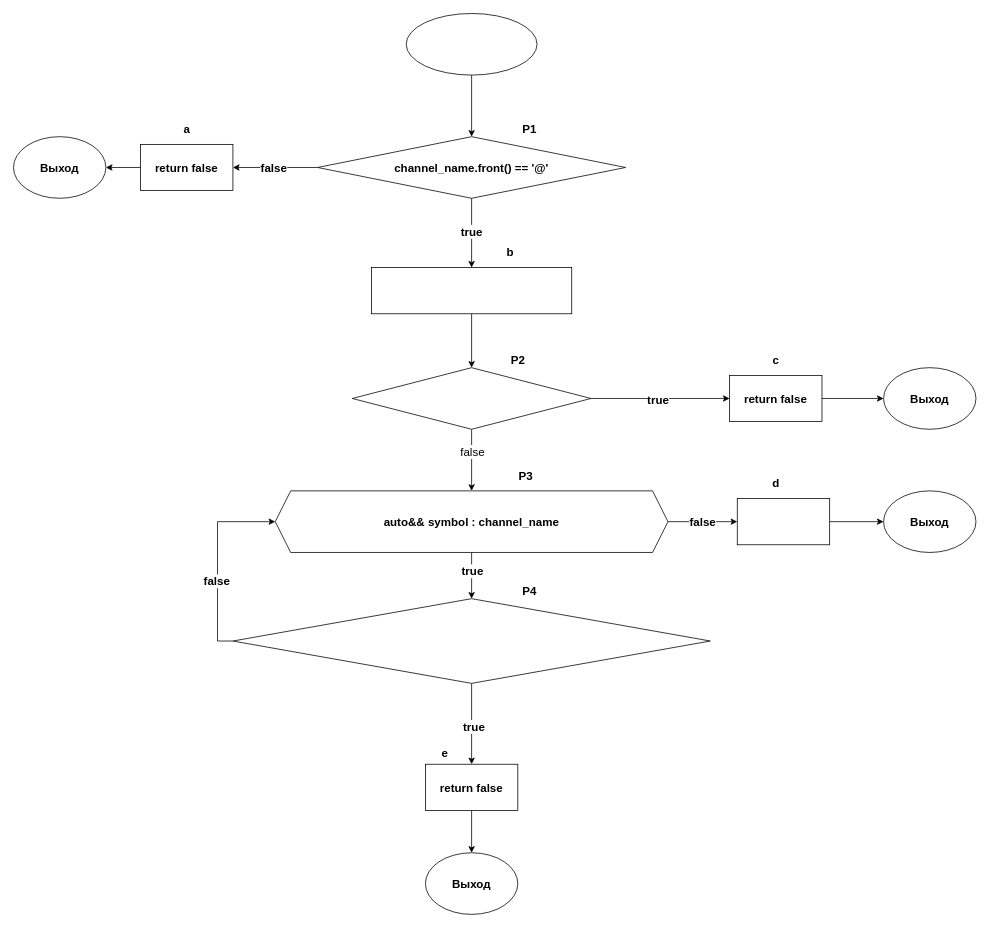
The diagram is 989 pixels wide and 928 high, and some of its shapes have lost their labels. The shapes that lost their labels are listed below. From the top down, each one's box as (x1, y1, x2, y2) in pixels, then its label:
(405, 13, 537, 75): Вход
(371, 267, 572, 314): channel_name.remove_prefix(1)
(352, 367, 591, 429): !(1 < channel_name.size() && channel_name.size() < 25)
(737, 498, 830, 545): return true
(232, 598, 710, 683): !(IsEnglishSymbol(symbol) || isdigit(symbol) || IsUnderscore(symbol))
